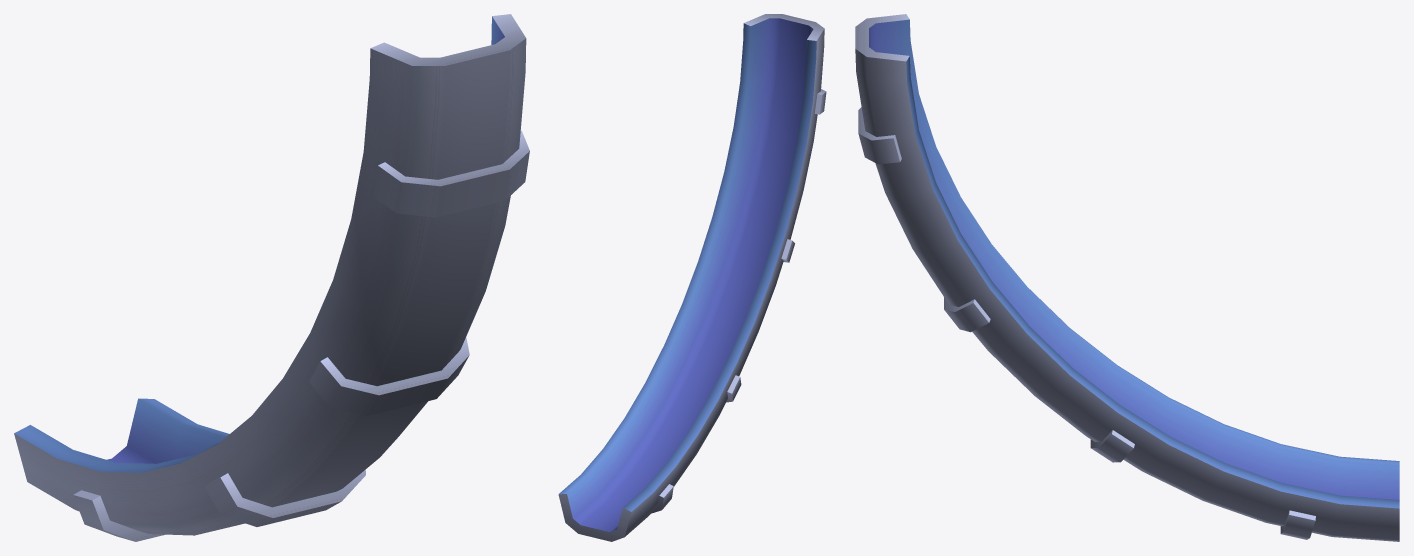
Rendered from coaster-flume-straight-bend-large.glb.
3 renders of one model, left to right at view 1: azimuth 30°, elevation 25°; view 2: azimuth 150°, elevation 25°; view 3: azimuth 270°, elevation 25°, orthographic. The views are drawn at different scales.
Parts seen in each view (by area): view 1: coaster-flume-straight-bend-large; view 2: coaster-flume-straight-bend-large; view 3: coaster-flume-straight-bend-large.
Part boxes in pixels (x1,y1,x2,y2): coaster-flume-straight-bend-large: (14,14,529,541); coaster-flume-straight-bend-large: (558,14,826,541); coaster-flume-straight-bend-large: (855,14,1399,541).
Size of the model in its own units: 0.8448 by 4 by 4.
1 material, 1 textured.
